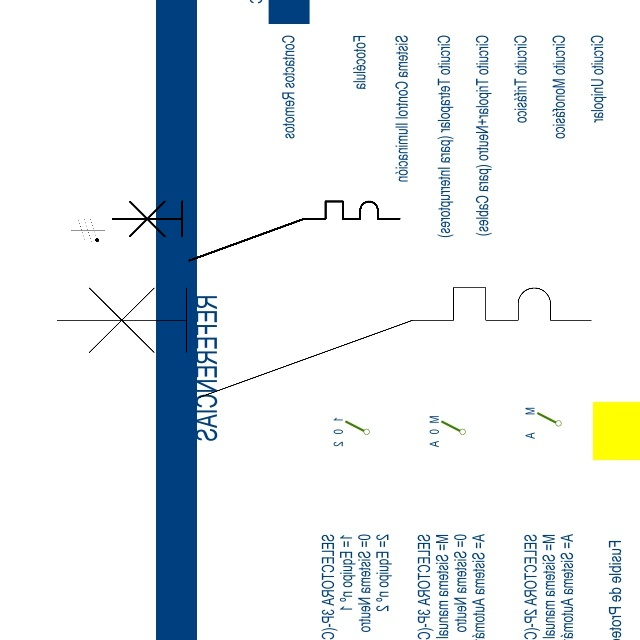interruptor_termomagnetico: (43, 274, 605, 411), (105, 194, 406, 267)
